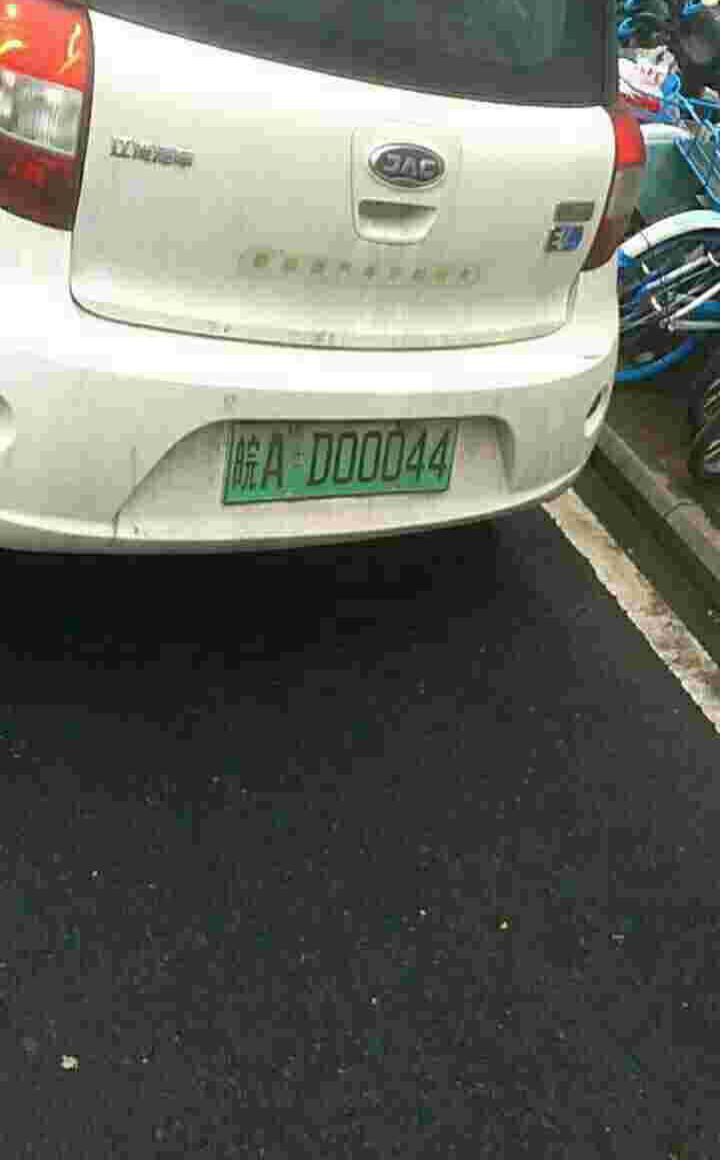car: (214, 414, 470, 501)
